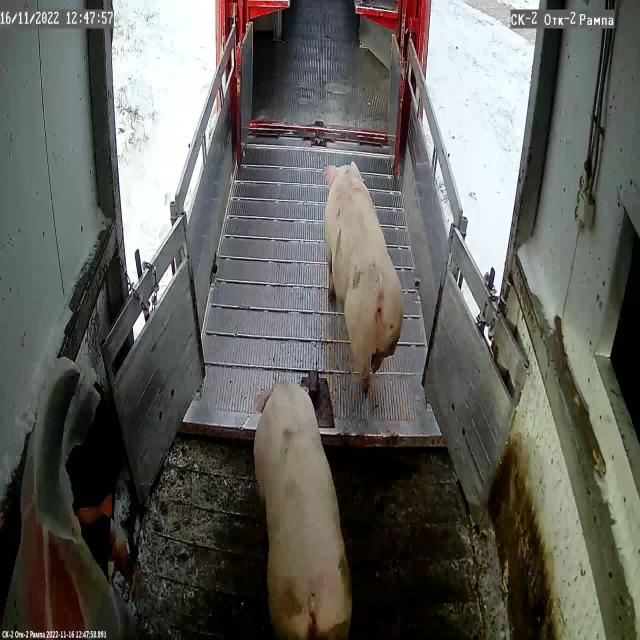pig: (254, 381, 352, 640), (324, 163, 404, 393)
